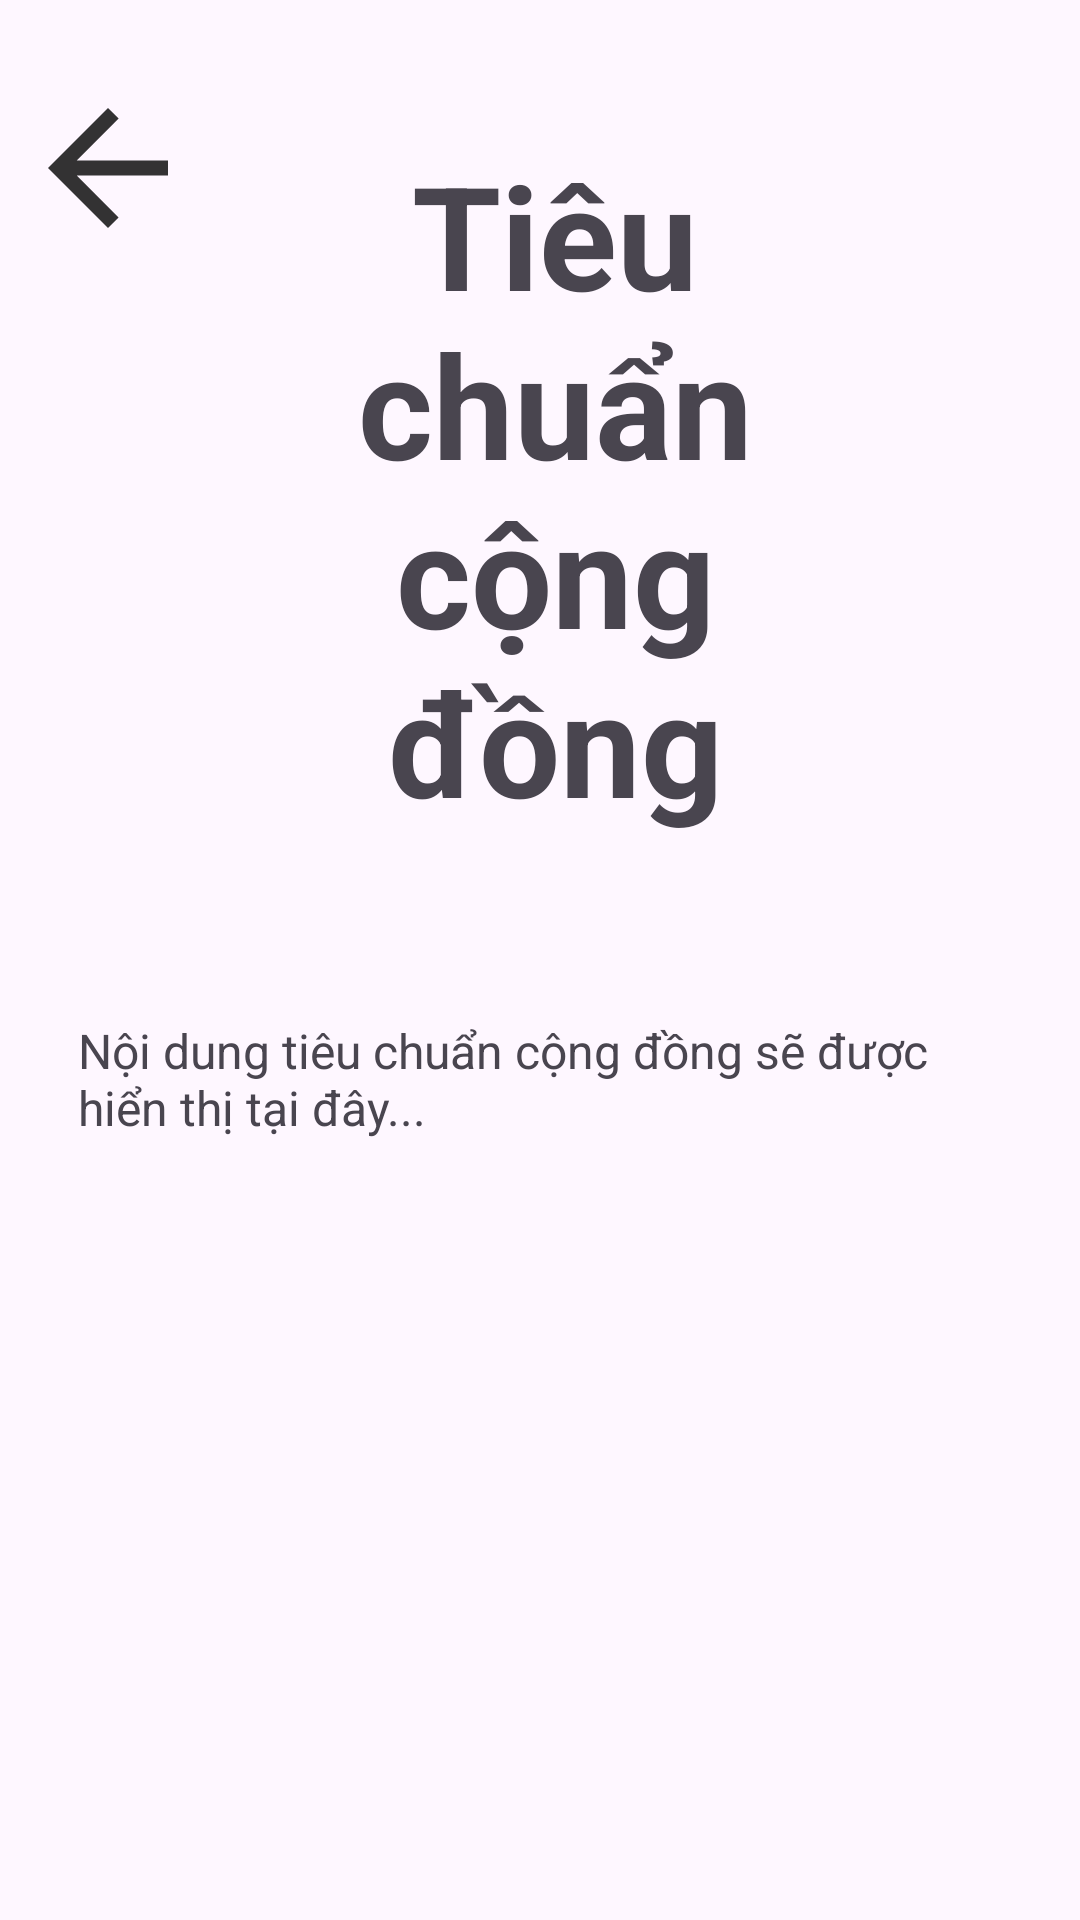

Icon click points for this 1080×1920 phone screenshot, format [x,y]:
arrowback: [108,168]
